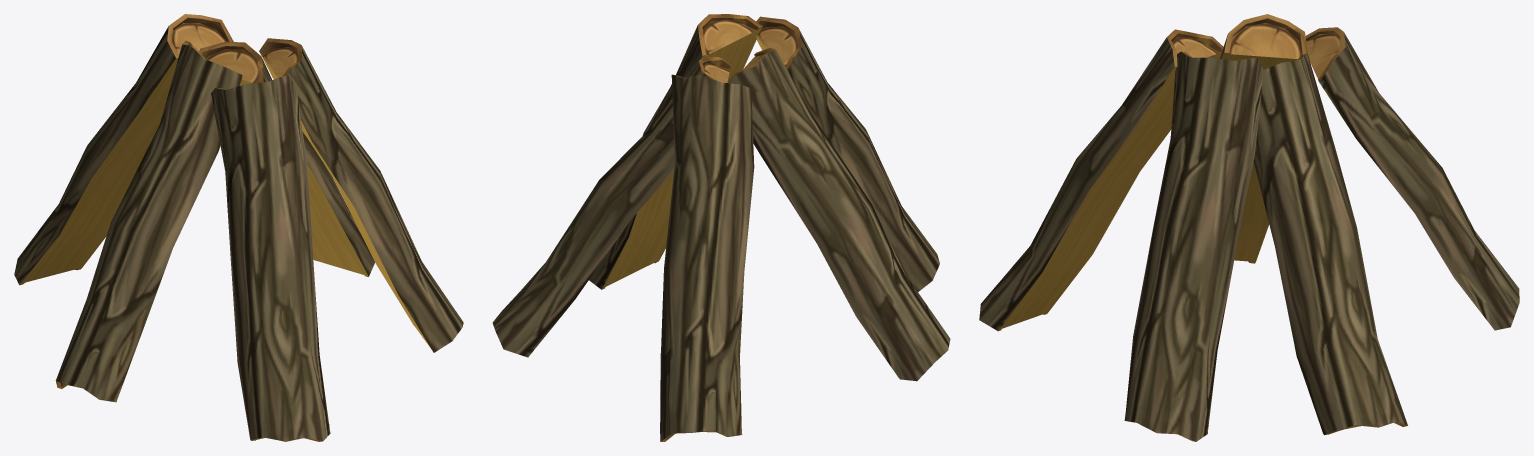
Rendered from Campfire06.fbx.
The picture shows the model from 3 angles, left to right: view 1: azimuth 30°, elevation 25°; view 2: azimuth 150°, elevation 25°; view 3: azimuth 270°, elevation 25°; orthographic projection. The views are drawn at different scales.
Visible parts, largest first — view 1: Campfire06_LOD0; view 2: Campfire06_LOD0; view 3: Campfire06_LOD0.
Boxes of the visible parts, <box> form: Campfire06_LOD0: <box>14,14,463,441</box>; Campfire06_LOD0: <box>492,14,950,441</box>; Campfire06_LOD0: <box>979,14,1519,441</box>.
Size of what is drawn, in the model's own units: 50.86 by 39.46 by 59.86.
